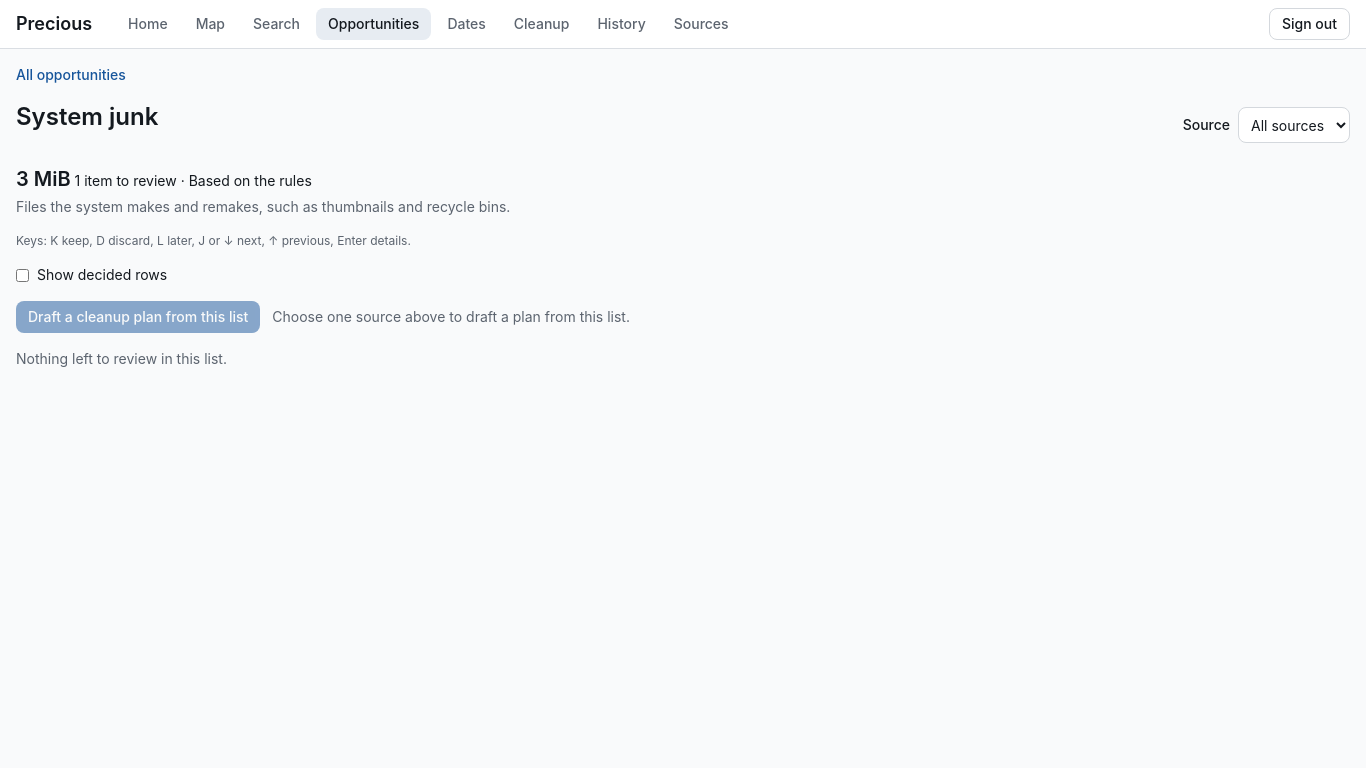
Test: Cleanup plans › drafts a plan from a review list for the chosen source only
Expected: the button "Draft a cleanup plan from this list" is disabled, [16,301,260,333]
Expected: the text "Choose one source above to draft a plan from this list." is shown, [272,307,630,327]
Select "Fotos" in the dropdown labelled "Source" at (1294, 125), box [1238,107,1350,143]
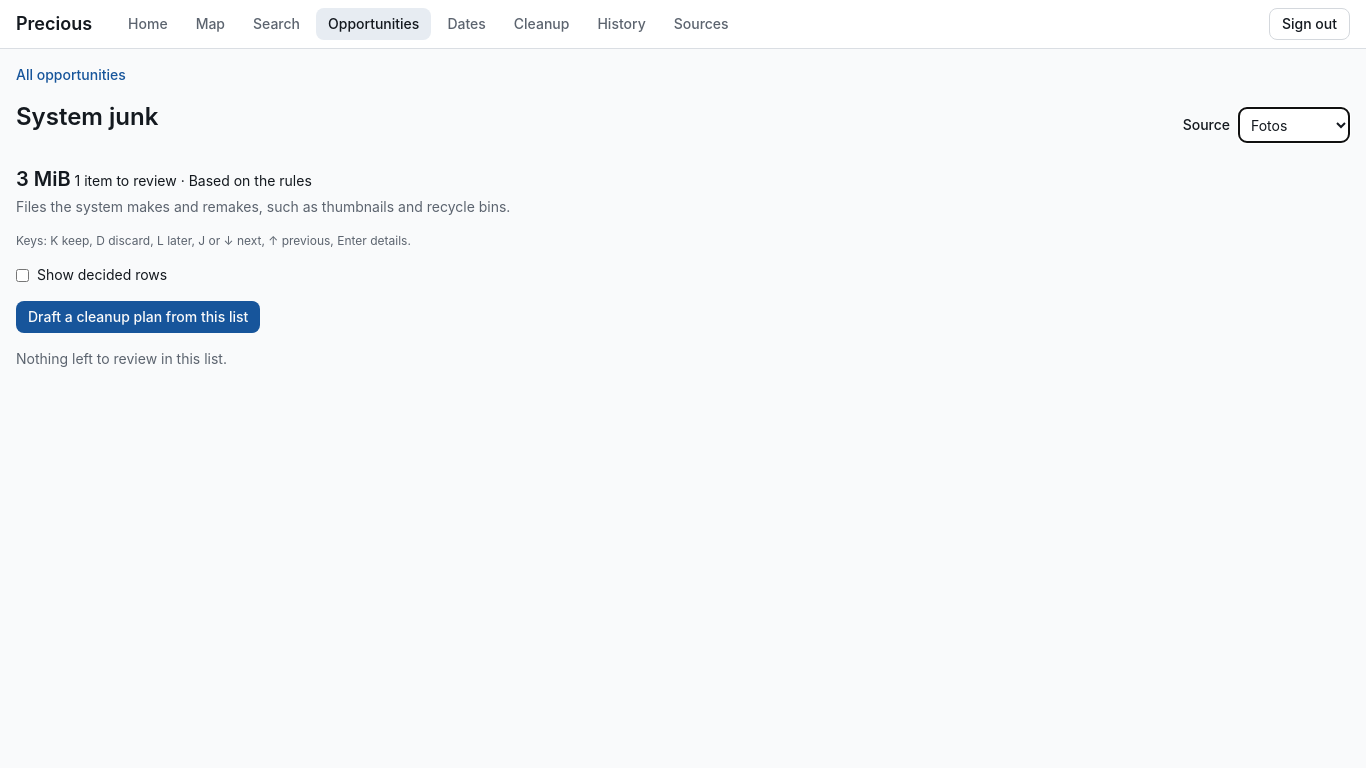
Expected: the button "Draft a cleanup plan from this list" is enabled
Click the button "Draft a cleanup plan from this list" at (138, 317), box [16,301,260,333]
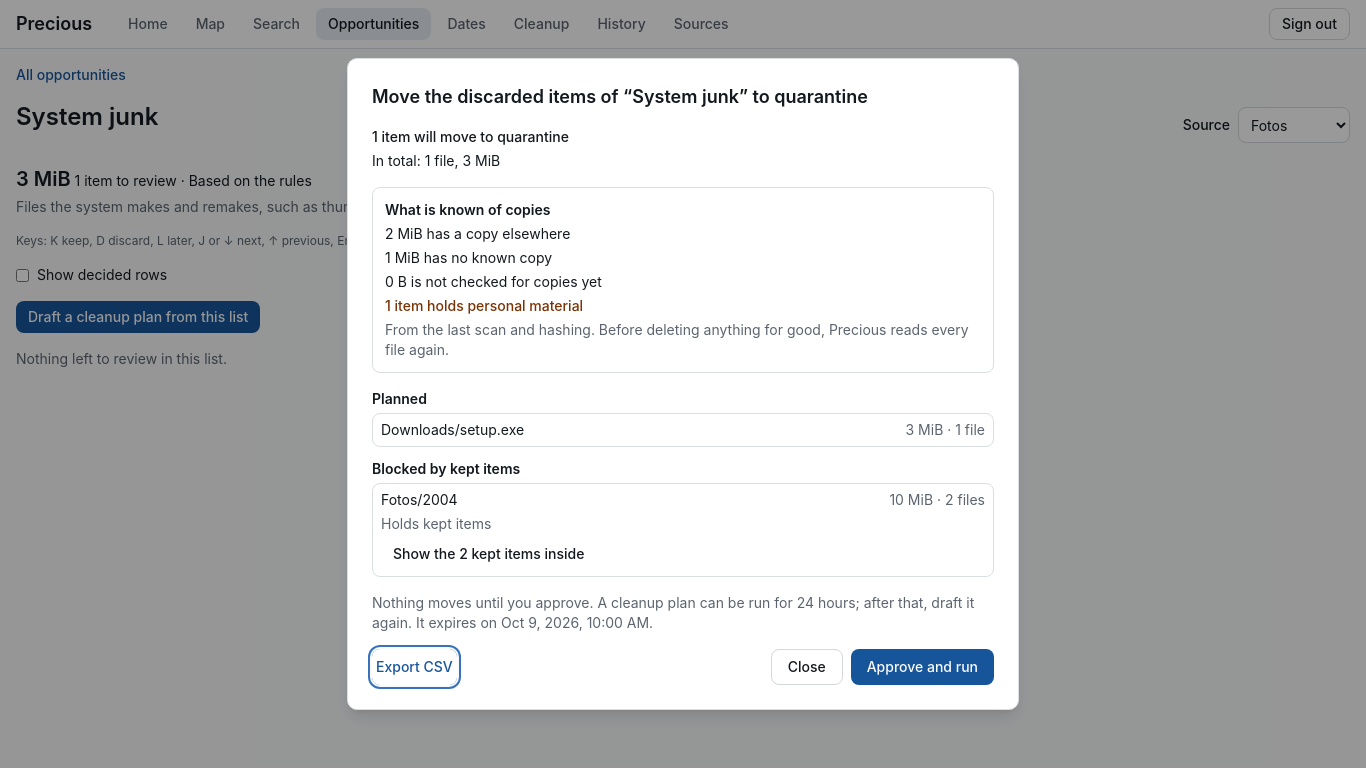
Expected: the dialog "Move the discarded items of “System junk” to quarantine" is shown, [347,58,1019,710]
